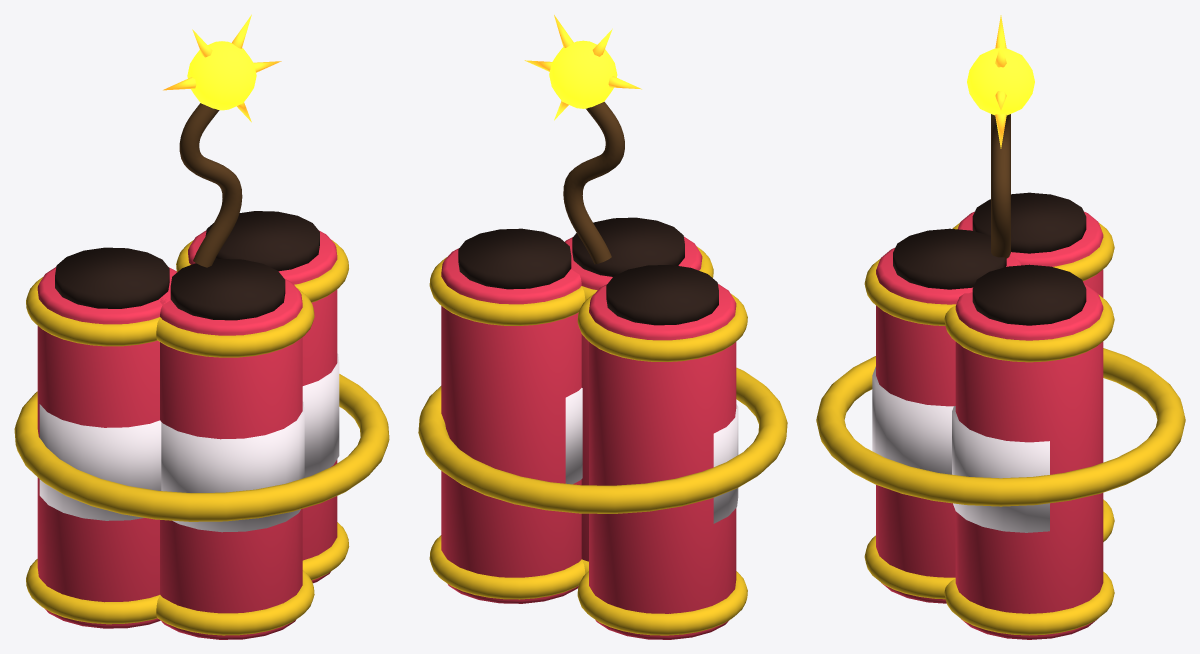
File: petasan.glb
3 views of the same model, side by side, from view 1: azimuth 30°, elevation 25°; view 2: azimuth 150°, elevation 25°; view 3: azimuth 270°, elevation 25° (orthographic).
Parts seen in each view (by area): view 1: Cylinder.006, Cylinder, Torus.007, Cylinder.007, Cylinder.001, Cylinder.003, Cylinder.002, Cylinder.008, Cylinder.005, tube, Torus.006, Torus.005 (+6 smaller); view 2: Cylinder, Cylinder.003, Torus.007, Cylinder.005, Cylinder.002, Cylinder.008, Torus.002, Torus.001, tube, Torus.003, Torus.004, Sphere (+3 smaller); view 3: Cylinder.003, Torus.007, Cylinder.006, Cylinder.004, Cylinder.005, Cylinder.007, Cylinder.008, Cylinder.002, Torus.004, Torus.003, Sphere, tube (+4 smaller).
Boxes of the visible parts, x1,y1,x2,y2 form: Cylinder.006: (160,278,302,639); Cylinder: (37,267,176,628); Torus.007: (14,374,389,521); Cylinder.007: (161,401,304,532); Cylinder.001: (39,404,161,520); Cylinder.003: (188,230,337,583); Cylinder.002: (55,247,169,308); Cylinder.008: (170,259,285,320); Cylinder.005: (205,211,319,271); tube: (179,103,242,267); Torus.006: (156,288,314,357); Torus.005: (156,570,314,635); Cylinder: (589,284,736,639); Cylinder.003: (441,248,581,603); Torus.007: (418,367,787,513); Cylinder.005: (458,228,571,289); Cylinder.002: (606,265,718,325); Cylinder.008: (572,217,684,276); Torus.002: (577,293,747,361); Torus.001: (577,571,747,635); tube: (563,102,624,264); Torus.003: (429,535,585,599); Torus.004: (429,257,585,325); Sphere: (549,40,617,108); Cylinder.003: (955,284,1103,639); Torus.007: (816,348,1185,506); Cylinder.006: (876,248,1021,603); Cylinder.004: (952,406,1049,532); Cylinder.005: (972,264,1086,325); Cylinder.007: (872,366,953,474); Cylinder.008: (893,228,1006,289); Cylinder.002: (972,192,1086,253); Torus.004: (944,294,1114,362); Torus.003: (944,571,1114,635); Sphere: (967,48,1034,115); tube: (991,114,1010,259).
Bounding box in the file's own units: 1.3 × 2.16 × 1.3.
